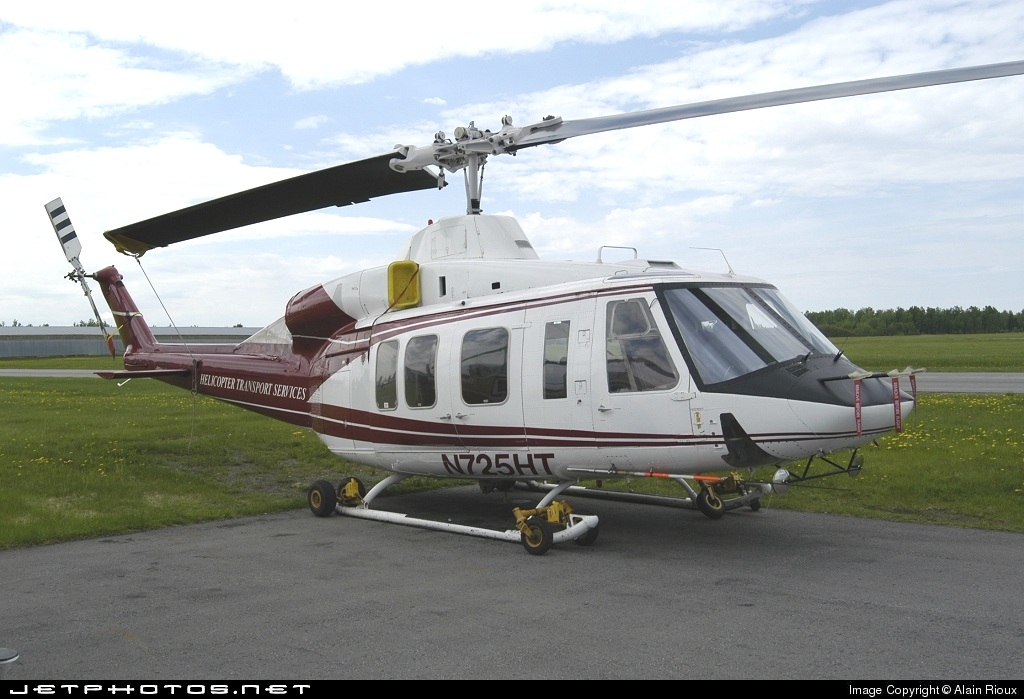number: (438, 447, 559, 478)
